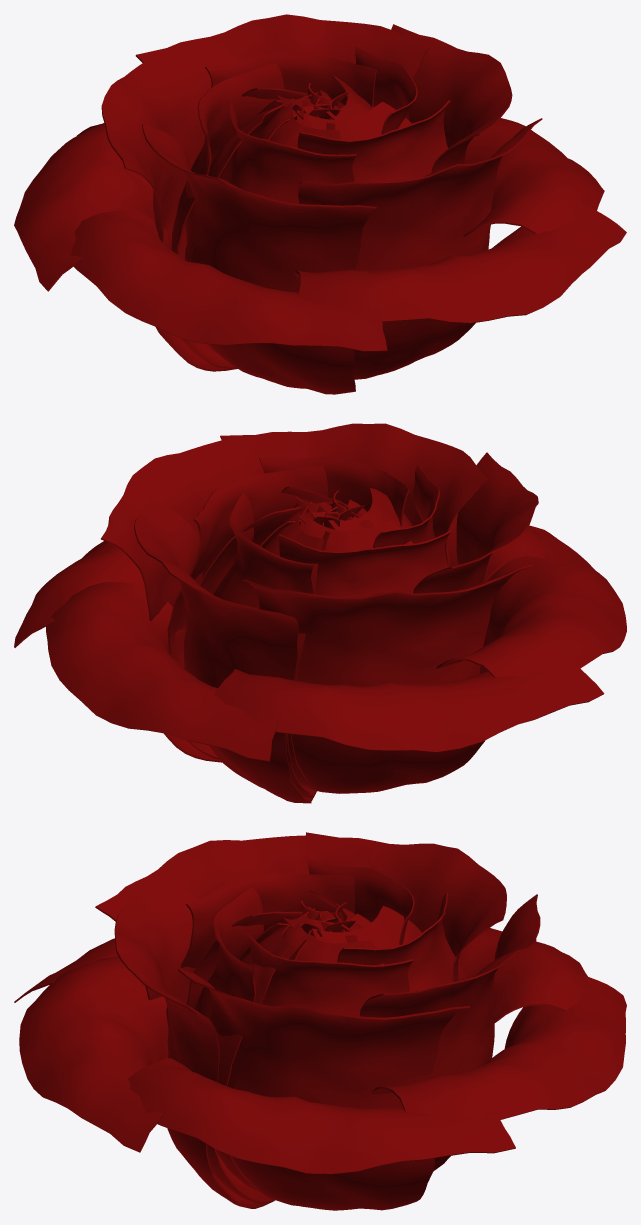
The model's file is Rose_editable_poly2 (including material).FBX.
3 views of the same model, one above another, from view 1: azimuth 30°, elevation 25°; view 2: azimuth 150°, elevation 25°; view 3: azimuth 270°, elevation 25° (orthographic). The views are drawn at different scales.
Visible parts, largest first — view 1: Line004; view 2: Line004; view 3: Line004.
Part boxes in pixels (x1=…): Line004: x1=14, y1=14, x2=626, y2=394; Line004: x1=14, y1=423, x2=626, y2=803; Line004: x1=14, y1=832, x2=626, y2=1210.
Bounding box in the file's own units: 0.1876 × 0.1836 × 0.0867.
